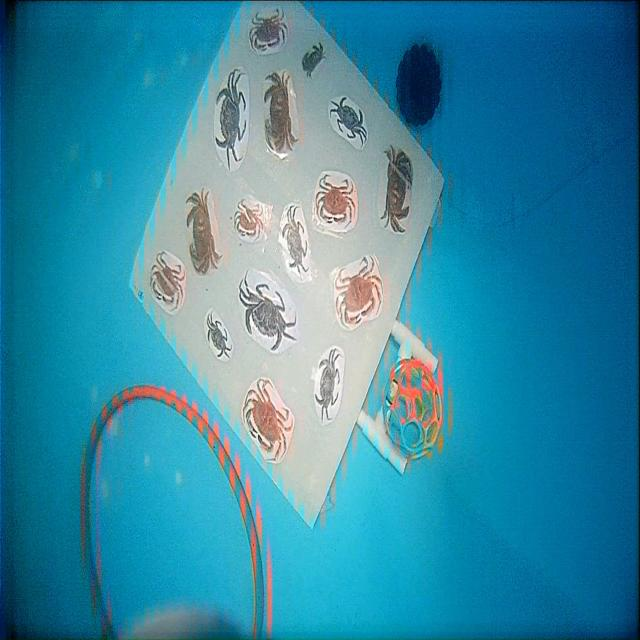GreenCrab: (239, 276, 296, 351), (215, 69, 246, 170), (314, 347, 340, 421), (330, 97, 367, 143), (206, 316, 232, 359)
